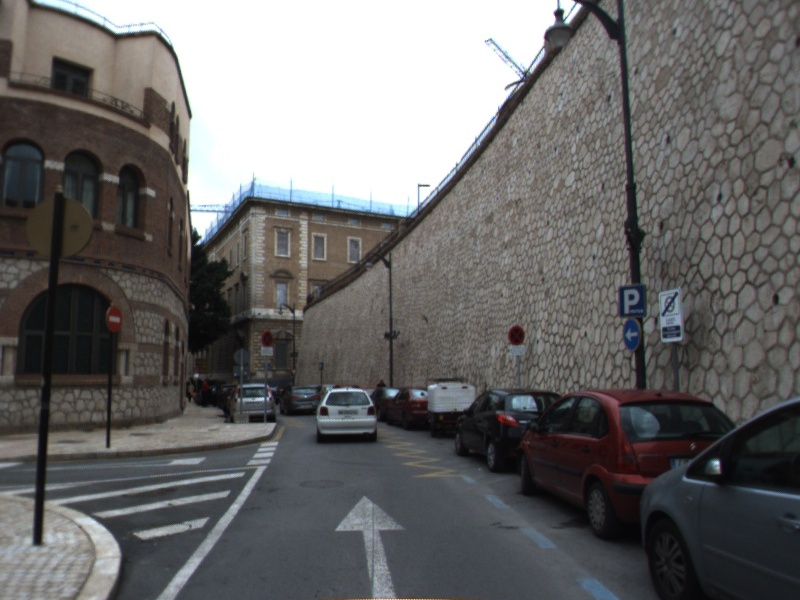STRAIGHT: (333, 494, 408, 600)
